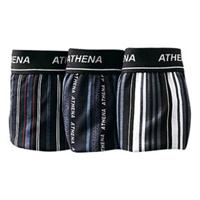mutande: (115, 47, 190, 151), (61, 48, 123, 151), (9, 49, 68, 150)
